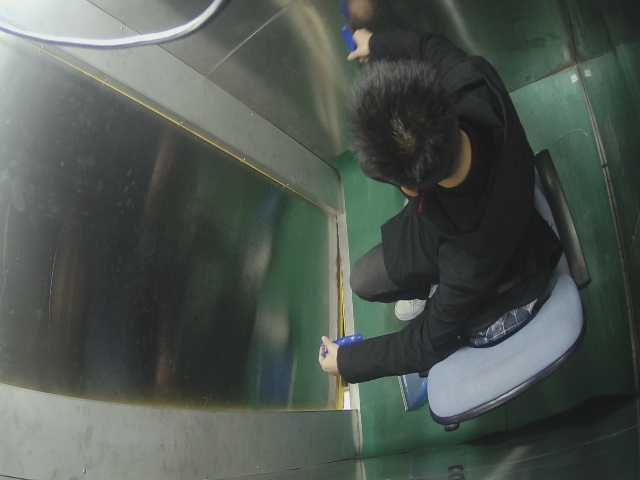chair: (409, 155, 594, 443)
person: (315, 13, 535, 354)
